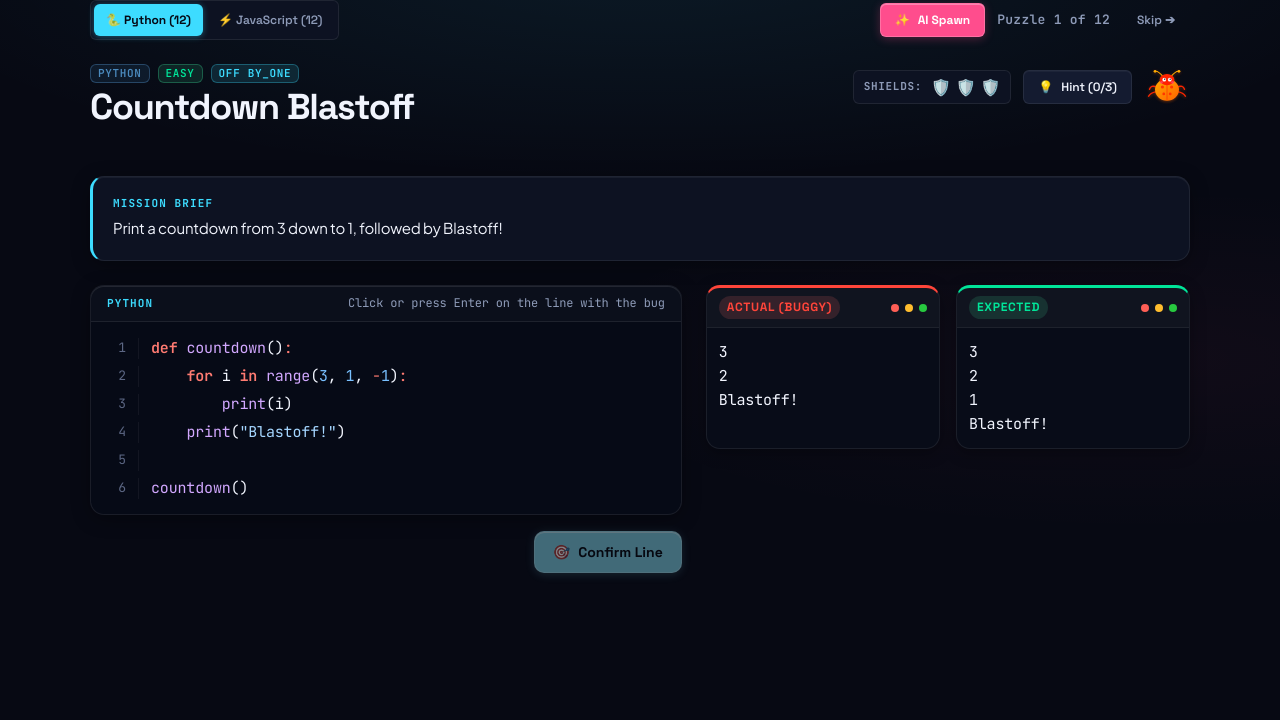
Test: Arena Gameplay End-to-End Loop (Bricks 5 & 6) › completes the full hunt loop: selects right line, deploys fix, reveals creature
The image size is (1280, 720).
Click the button with aria-label "Line 2:".
click(255, 376)  # box x1=103 y1=366 x2=408 y2=387
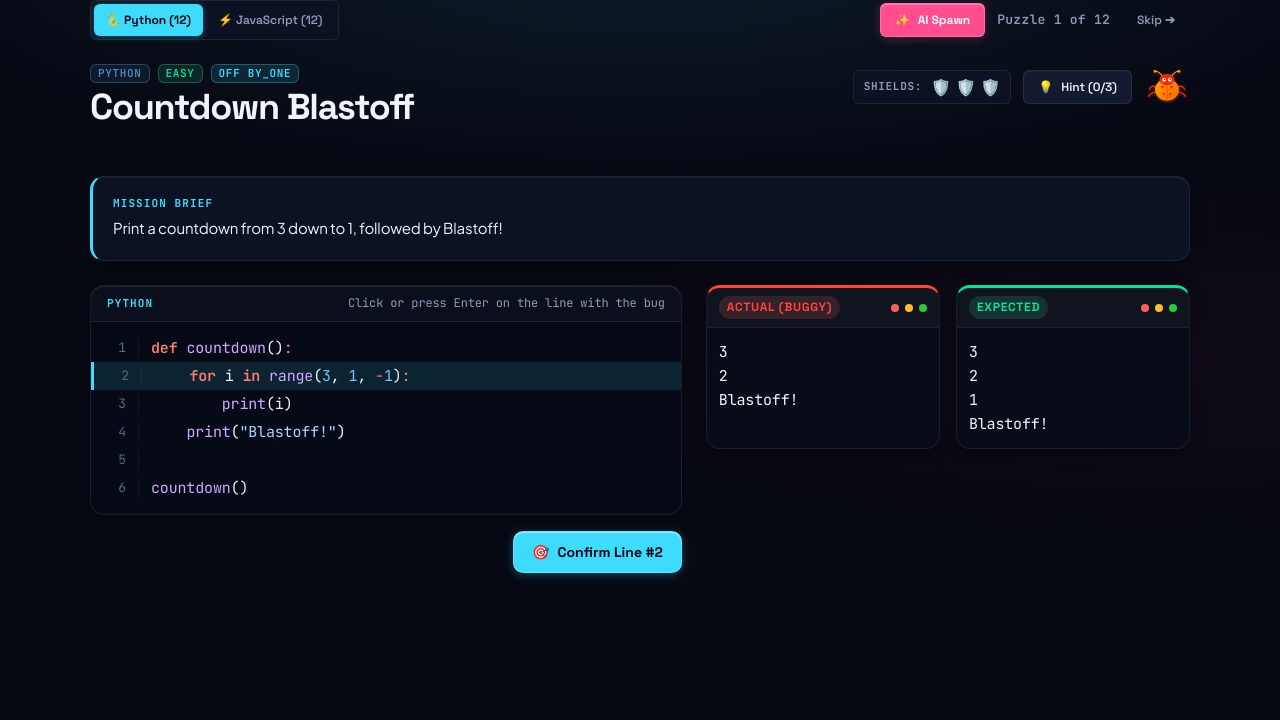
Click the button "🎯 Confirm Line #2".
click(597, 552)  # box x1=513 y1=531 x2=682 y2=573
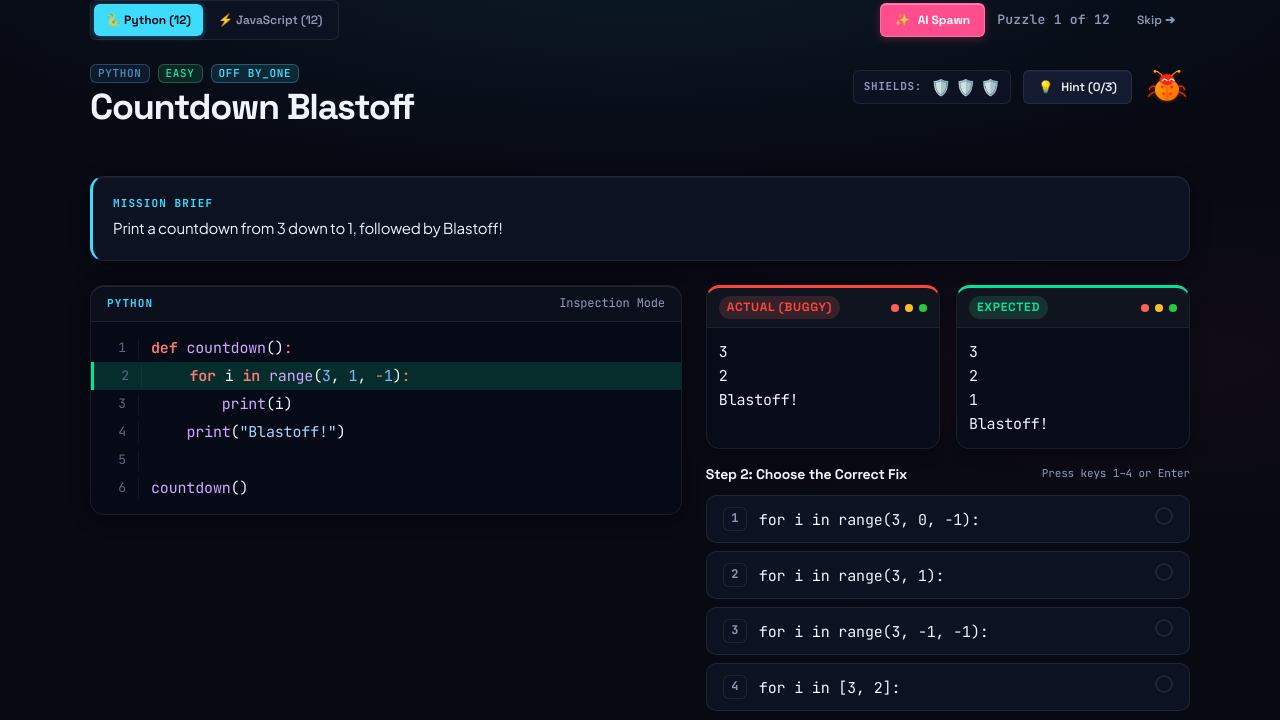
expect the heading "Step 2: Choose the Correct Fix" is shown: met, box x1=706 y1=466 x2=907 y2=482
Click the text "for i in range(3, 0, -1):".
click(869, 520)  # box x1=759 y1=510 x2=980 y2=530
(page scrolled)
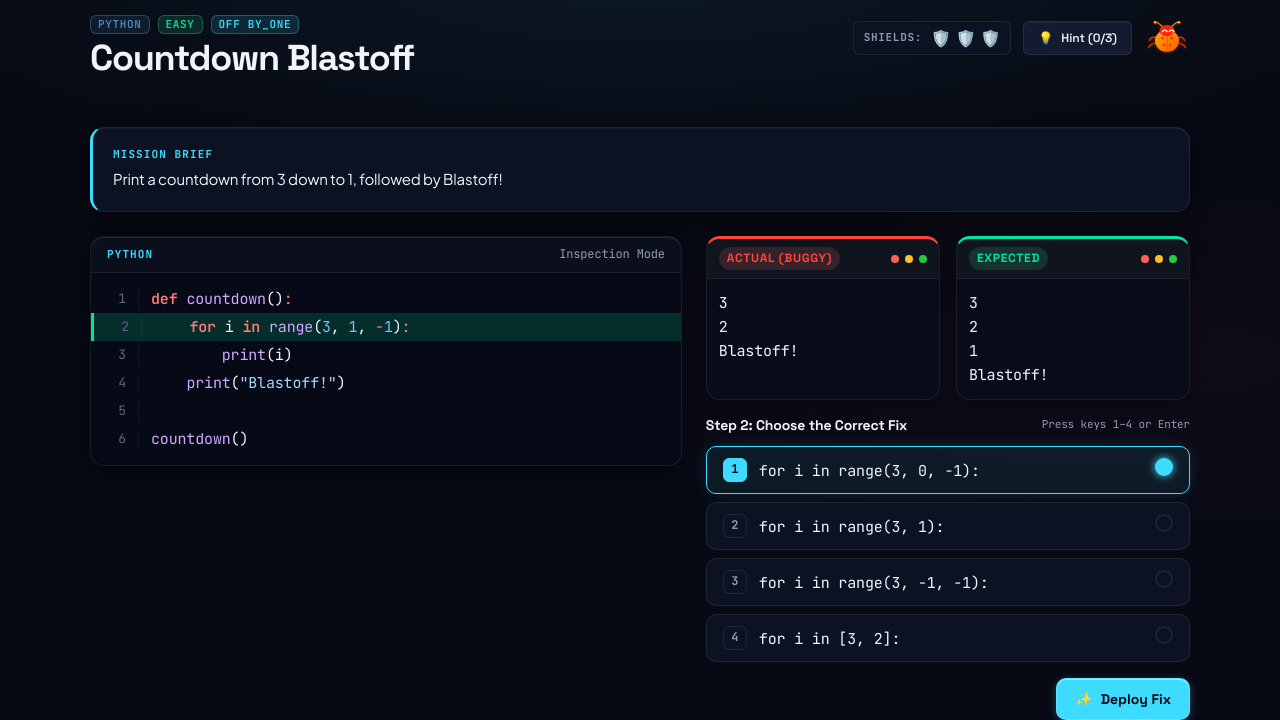
Click the button "✨ Deploy Fix".
click(1123, 699)  # box x1=1056 y1=678 x2=1190 y2=719
(page scrolled)
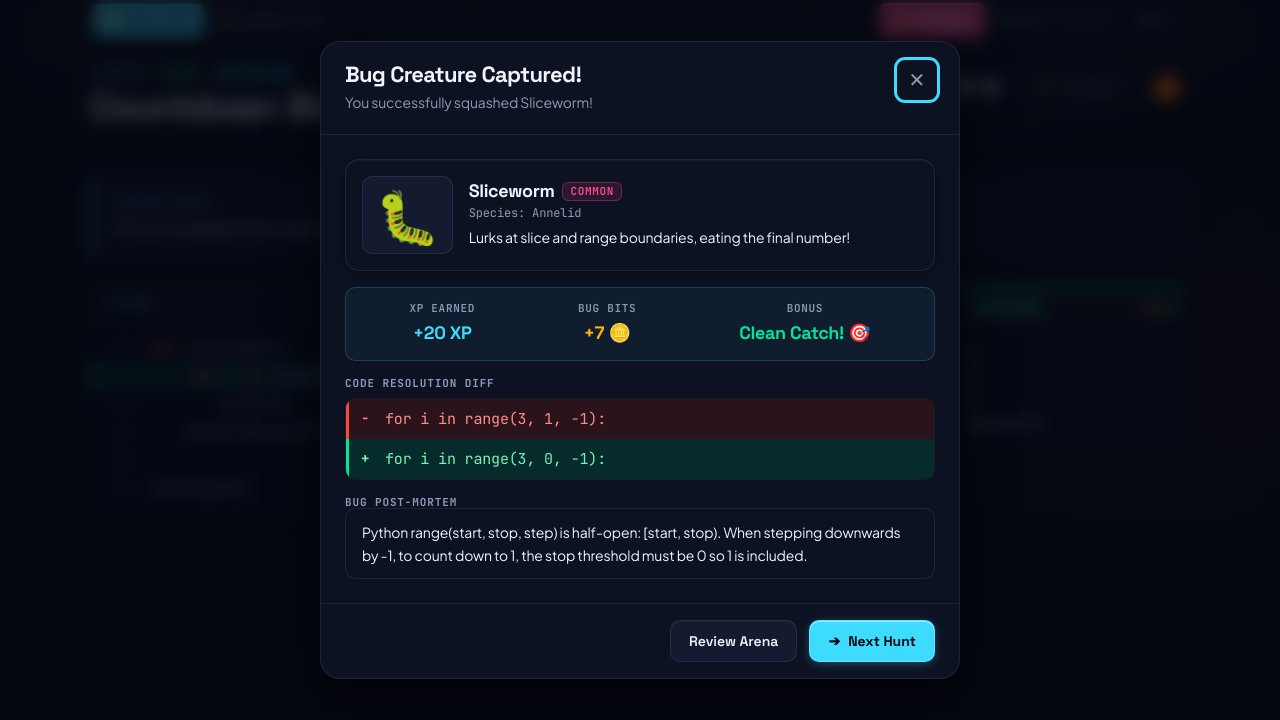
expect the dialog is shown: met, box x1=320 y1=41 x2=960 y2=679
expect the heading "Bug Creature Captured!" is shown: met, box x1=345 y1=62 x2=593 y2=87
expect the heading "Sliceworm" is shown: met, box x1=469 y1=181 x2=554 y2=202
